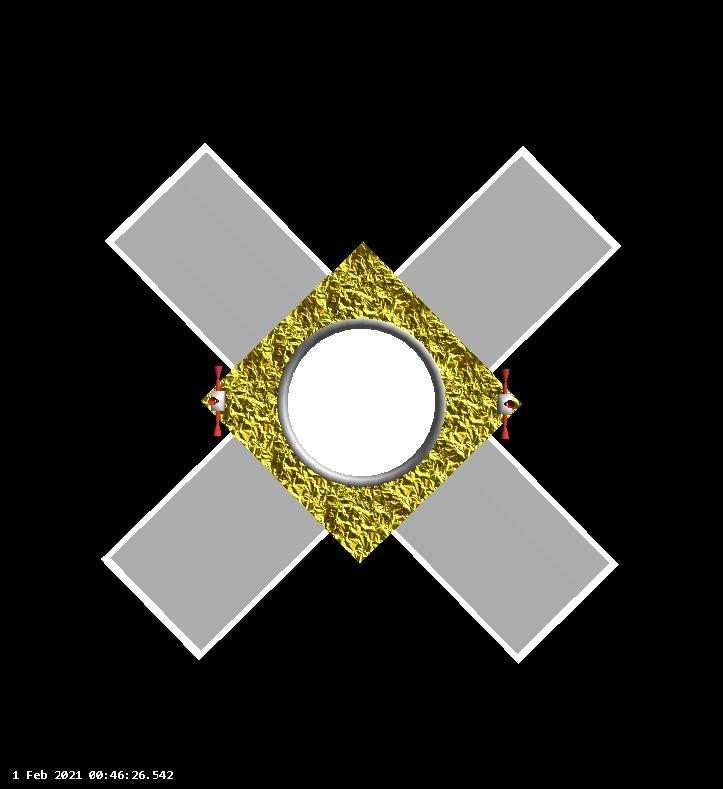body: (199, 239, 523, 565)
solar: (388, 433, 622, 666), (391, 143, 623, 375), (99, 431, 330, 664), (105, 142, 336, 371)
thruster: (212, 409, 222, 437), (501, 367, 510, 396), (501, 412, 510, 441), (214, 364, 222, 391), (208, 396, 220, 406), (503, 399, 515, 409)
